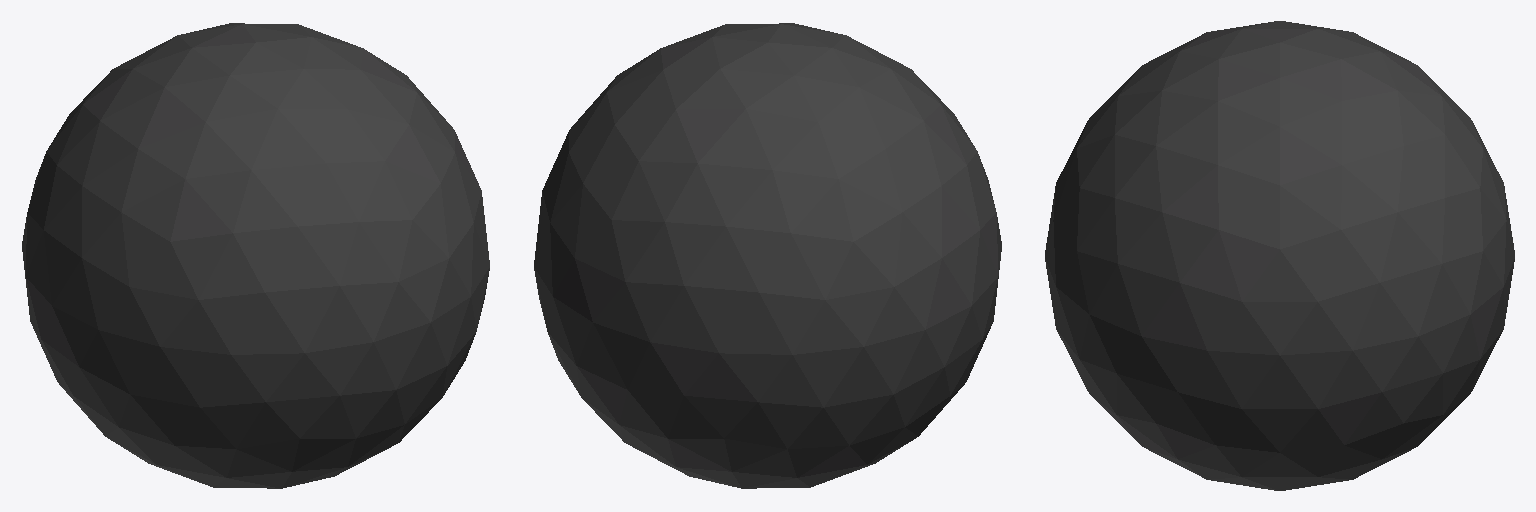
Rendered from ball.obj.
3 renders of one model, left to right at view 1: azimuth 30°, elevation 25°; view 2: azimuth 150°, elevation 25°; view 3: azimuth 270°, elevation 25°, orthographic.
Bounding box in the file's own units: 0.25 × 0.25 × 0.25.